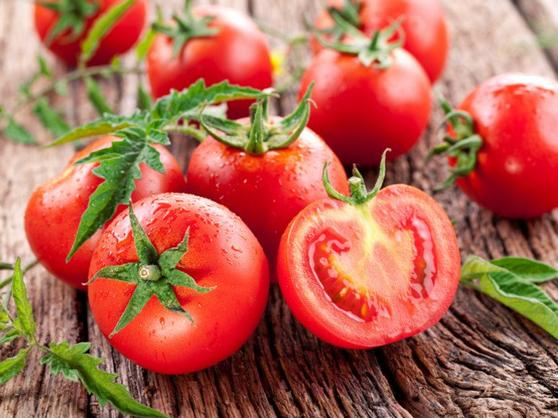tomato: (89, 191, 269, 373), (299, 33, 436, 160)
